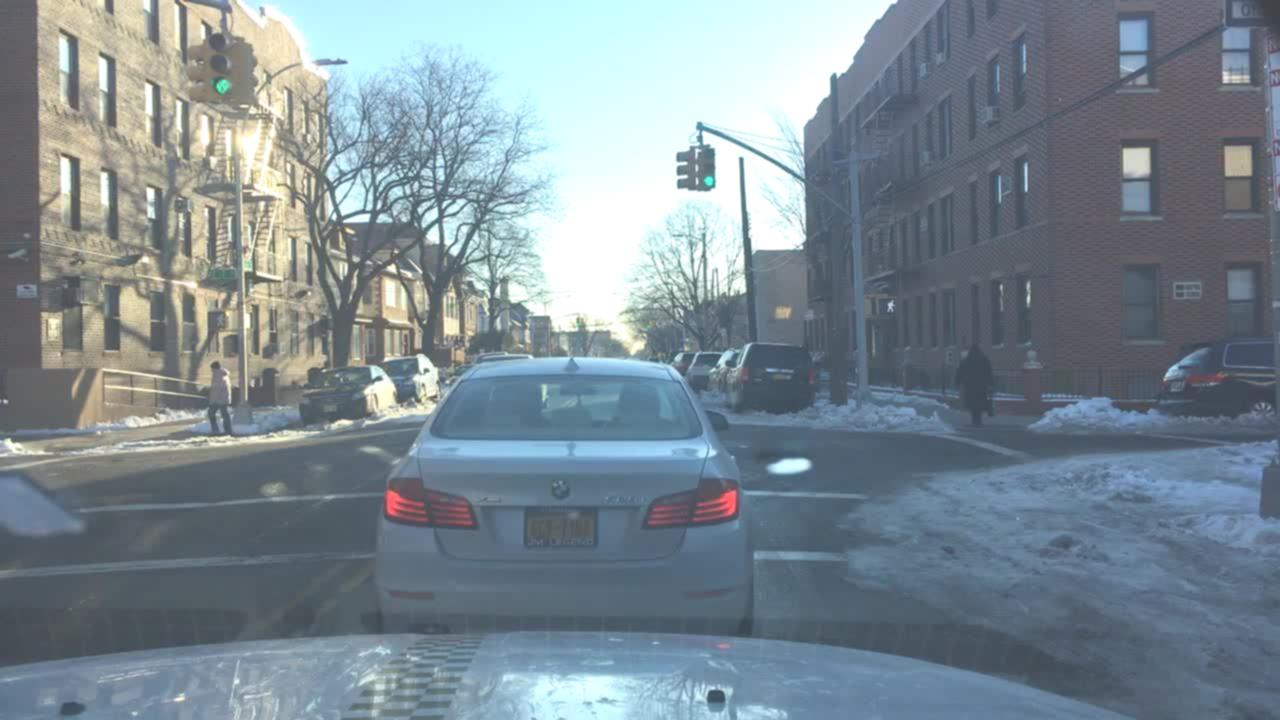bmw: (543, 472, 582, 508)
